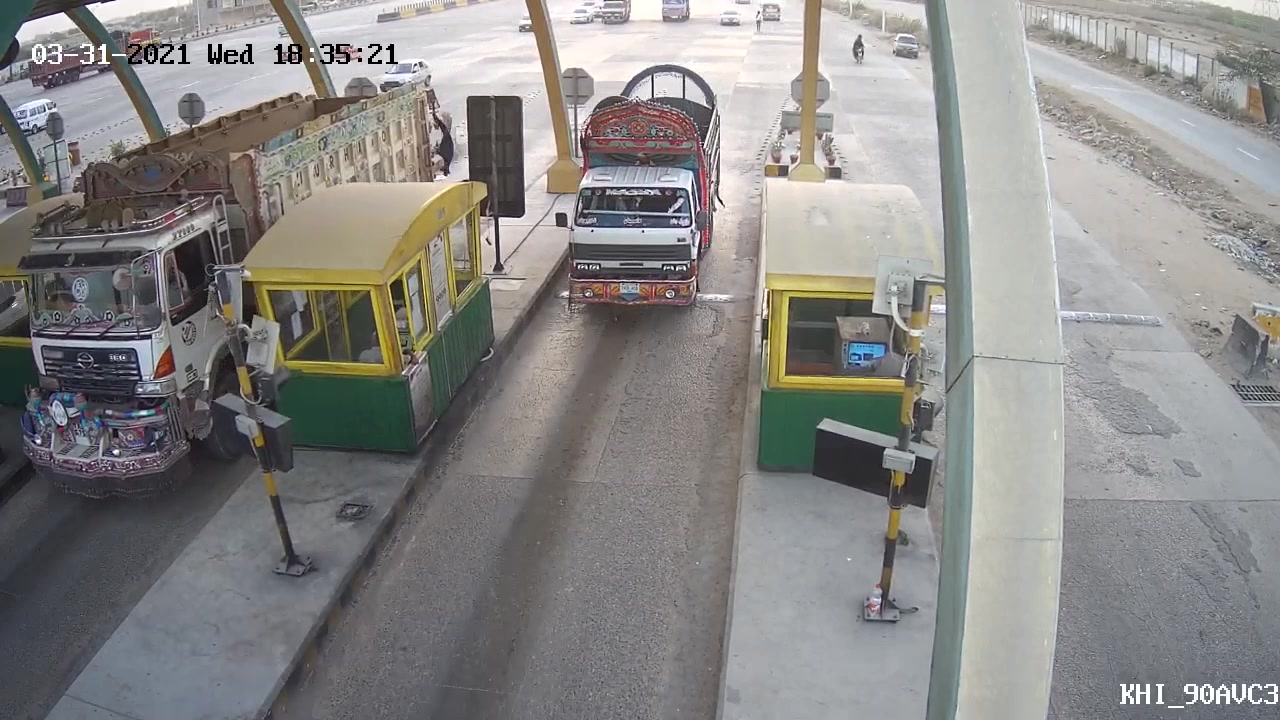F5: (554, 84, 734, 319)
